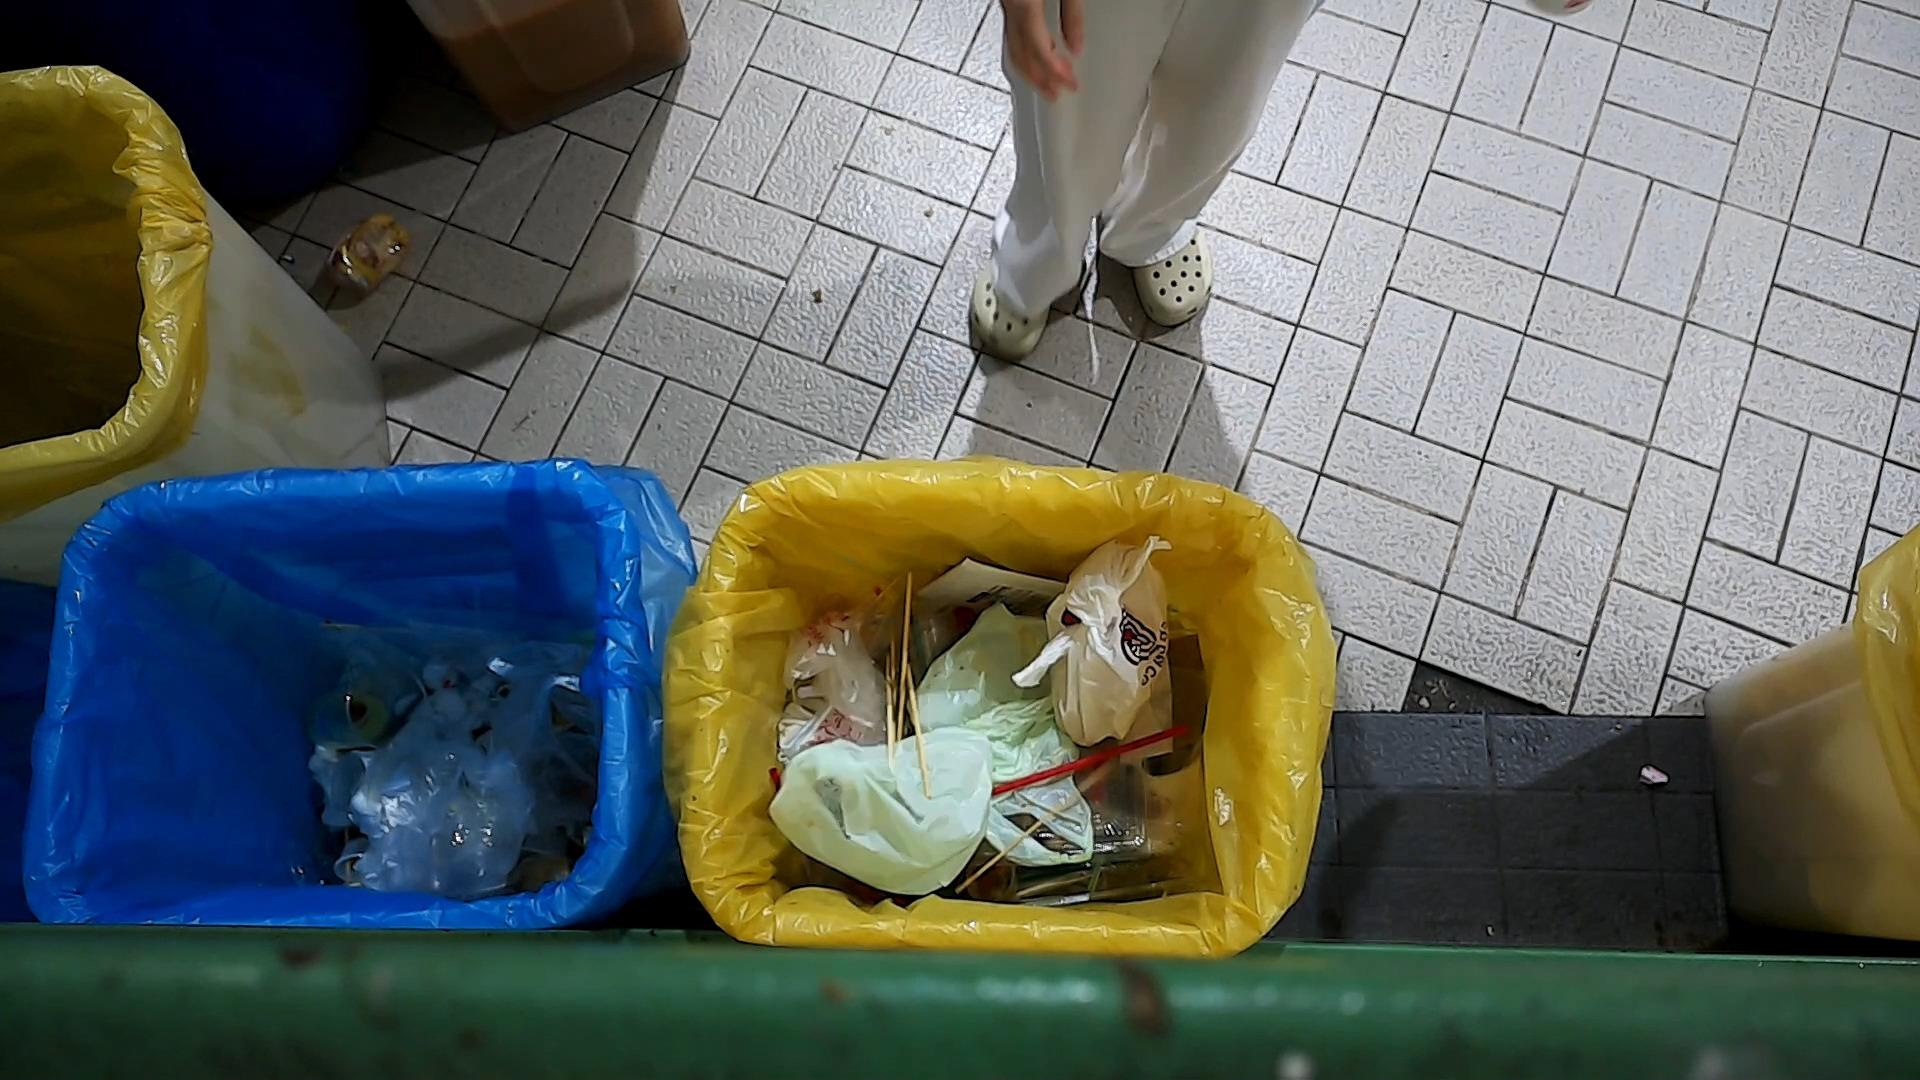filled plastic bag: (769, 720, 998, 897), (1009, 534, 1174, 749)
plastic bag: (344, 654, 564, 906), (914, 597, 1100, 869), (777, 571, 884, 735)
plastic cup: (301, 658, 430, 757)
sticks: (953, 760, 1117, 897), (906, 662, 932, 803), (895, 570, 914, 742), (882, 638, 898, 774)
straw: (988, 721, 1193, 798)
